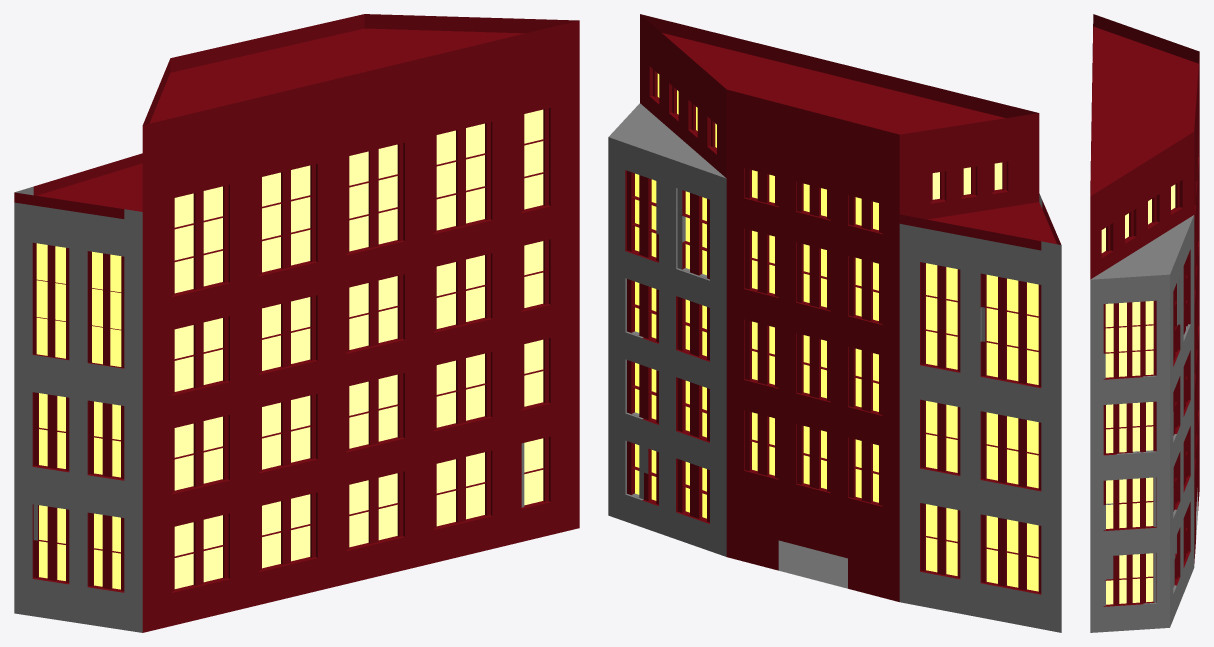
Rendered from havana_tower.fbx.
3 views of the same model, side by side, from view 1: azimuth 30°, elevation 25°; view 2: azimuth 150°, elevation 25°; view 3: azimuth 270°, elevation 25° (orthographic). The views are drawn at different scales.
Visible parts, largest first — view 1: Plane; view 2: Plane; view 3: Plane.
Part boxes in pixels (x1,y1,x2,y2): Plane: (14,14,579,632); Plane: (608,14,1061,632); Plane: (1090,14,1199,632).
Bounding box in the file's own units: 1136 × 1077 × 245.
